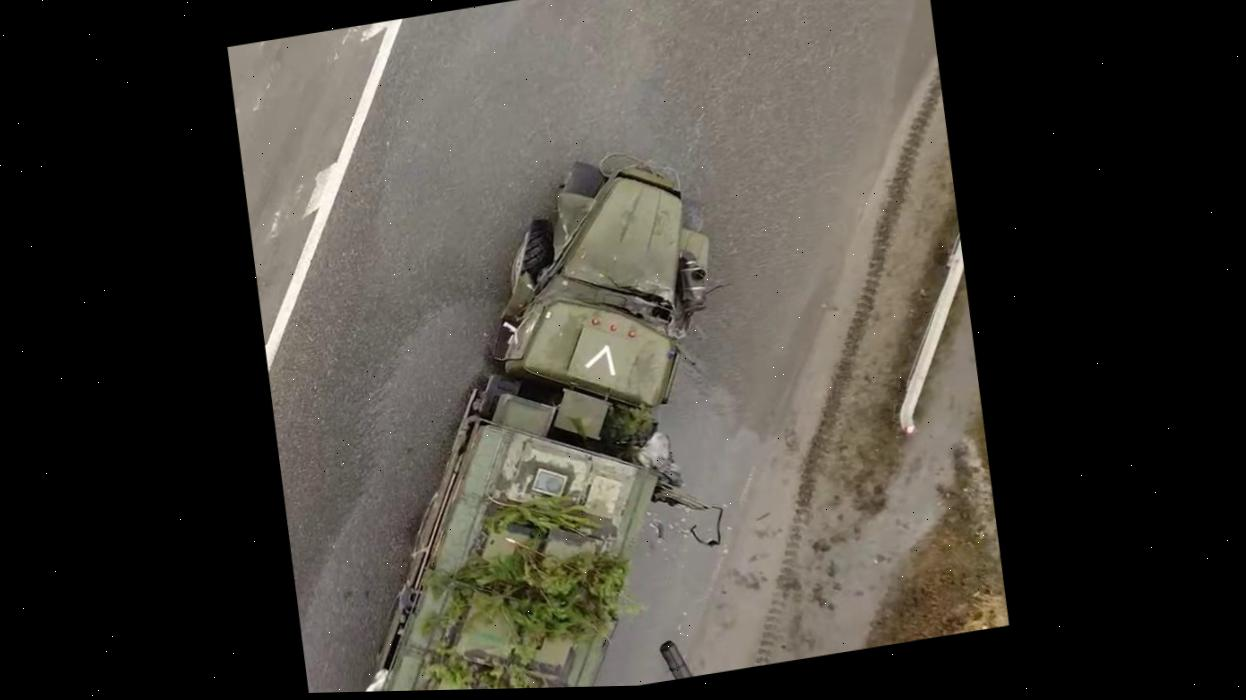truck: (261, 136, 772, 694)
